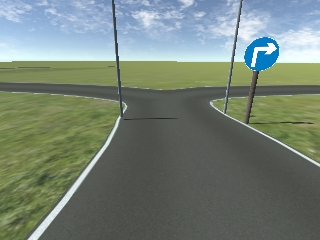right: (244, 38, 278, 71)
